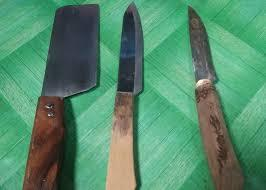knives: (28, 2, 177, 190)
